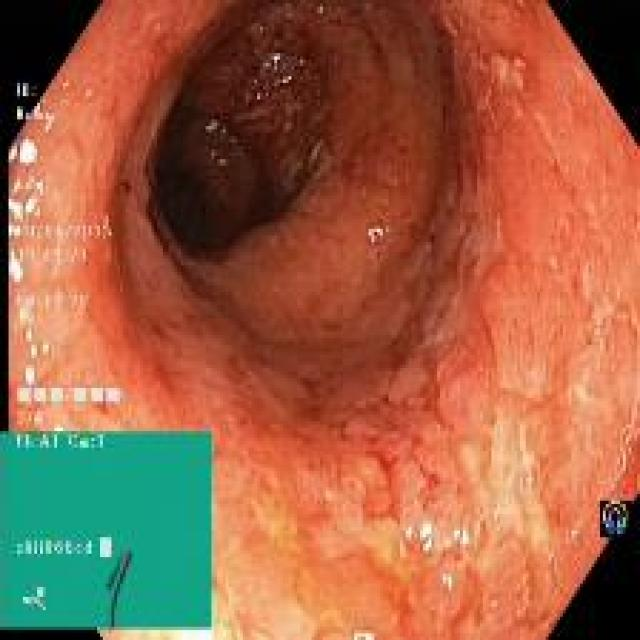ulcerative-colitis-grade-3: (10, 0, 640, 638)
